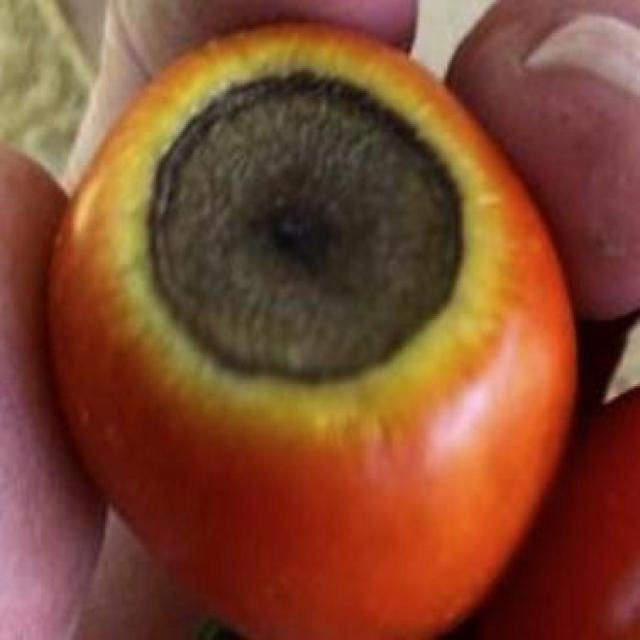Blossom End Rot Fruit: (79, 23, 343, 307)
